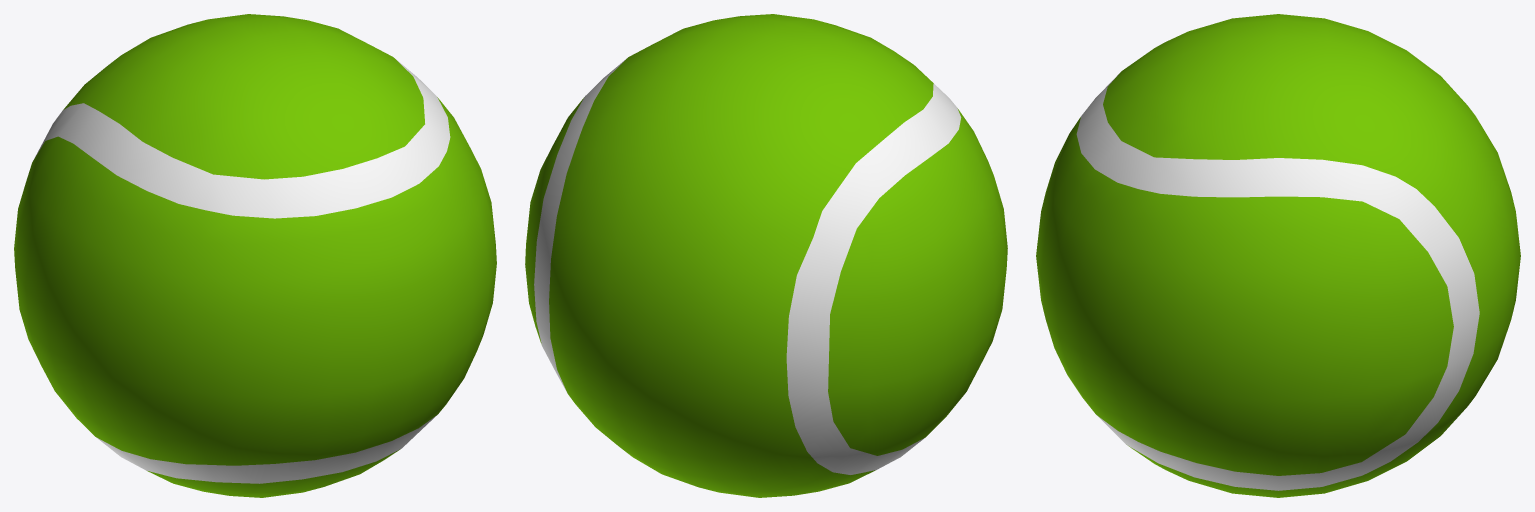
File: Tennisball_Green.fbx
3 views of the same model, side by side, from view 1: azimuth 30°, elevation 25°; view 2: azimuth 150°, elevation 25°; view 3: azimuth 270°, elevation 25° (orthographic).
Visible parts, largest first — view 1: Tennisball_Green; view 2: Tennisball_Green; view 3: Tennisball_Green.
Boxes of the visible parts, x1=… form: Tennisball_Green: x1=14, y1=14, x2=496, y2=497; Tennisball_Green: x1=525, y1=14, x2=1007, y2=497; Tennisball_Green: x1=1036, y1=14, x2=1520, y2=497.
Bounding box in the file's own units: 92.63 × 92.63 × 92.63.
